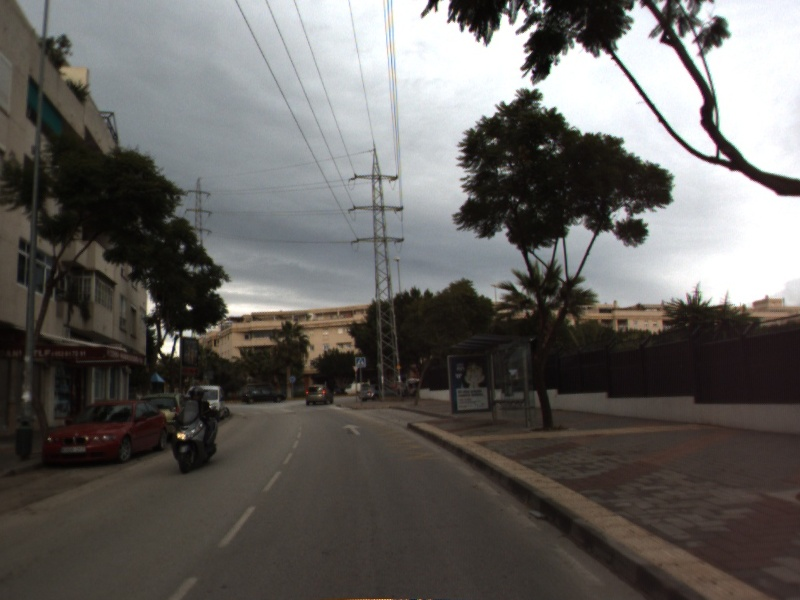STRAIGHT: (340, 422, 364, 437)
